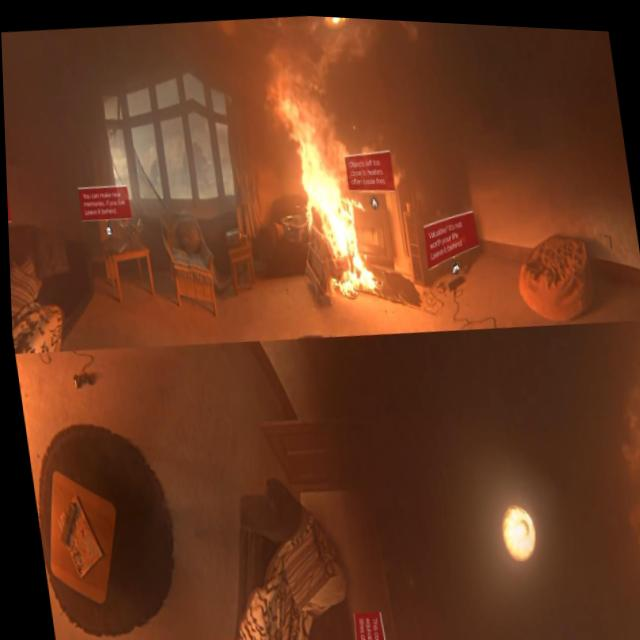fire: (261, 40, 380, 303)
